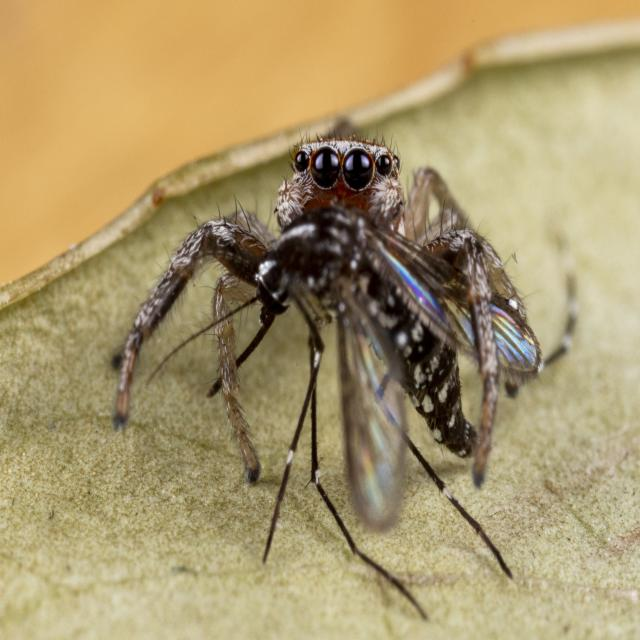albopictus: (110, 106, 553, 611)
